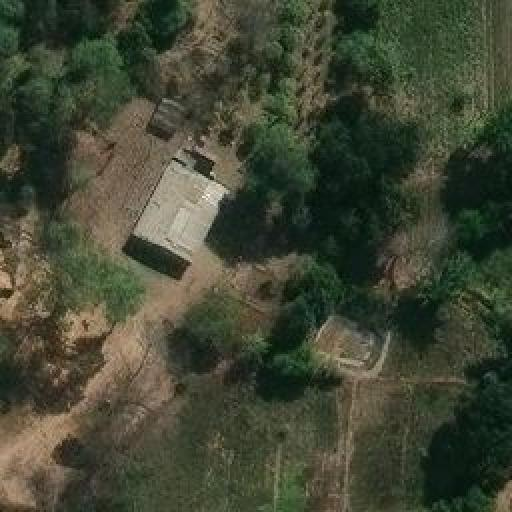manzanas: (120, 79, 233, 281)
